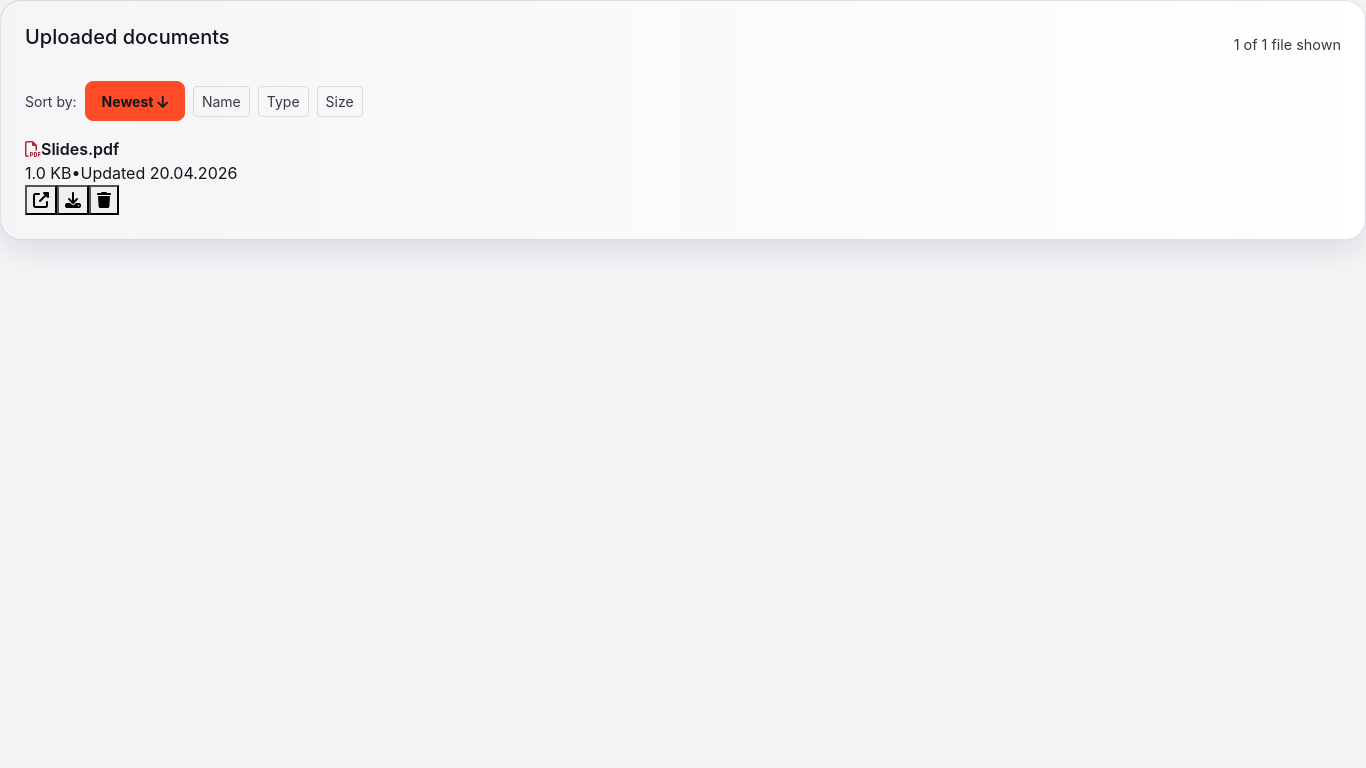
CourseDocumentsList › opens the delete confirmation modal when the delete button is clicked
Click the button named "Delete Slides.pdf" at (104, 200), box 89,185 -> 119,215
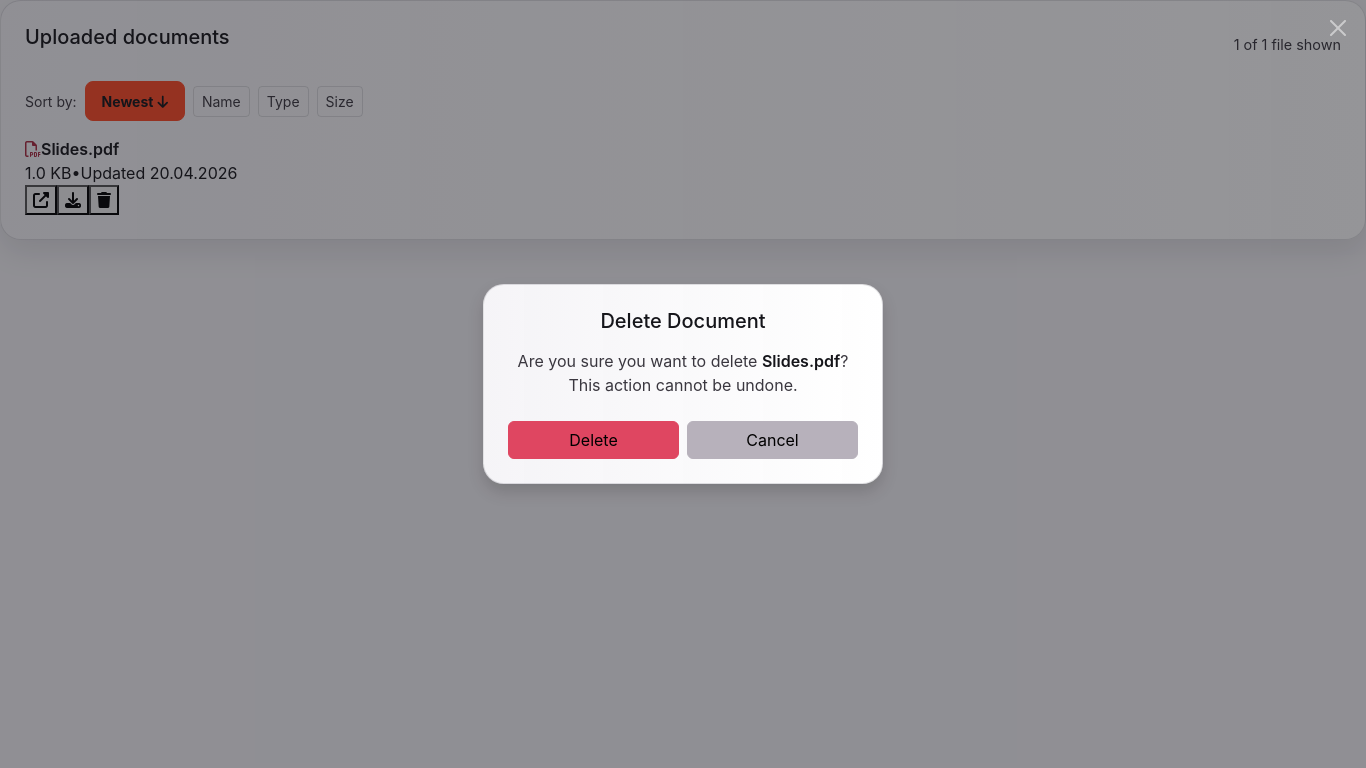
Result: the text "Are you sure you want to delete" is shown at 518,351 -> 762,371
Result: the heading "Delete Document" is shown at 600,309 -> 766,333
